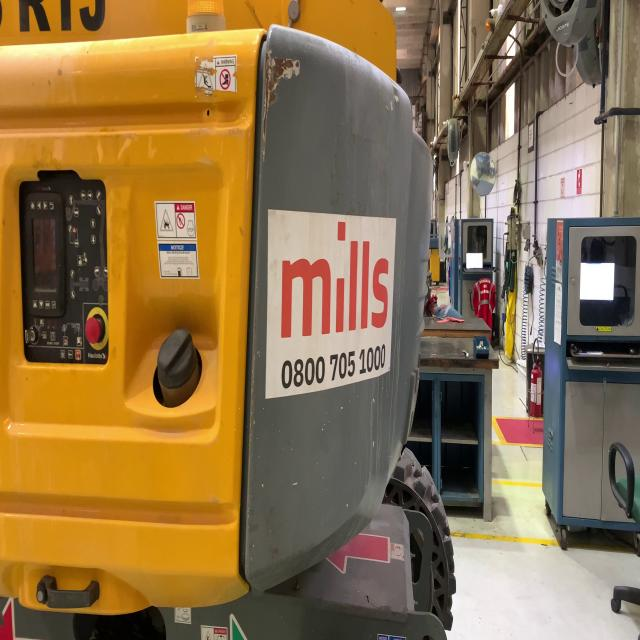Adesivos: (263, 205, 398, 404)
